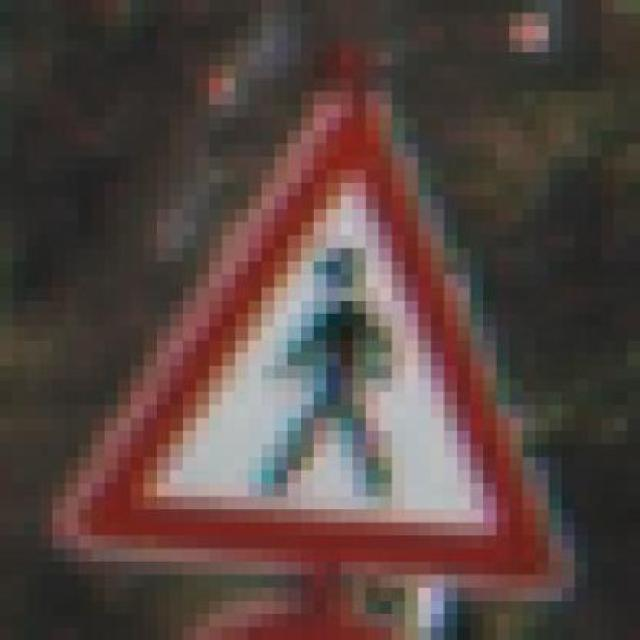Pedestrian Crossing: (39, 52, 601, 588)
